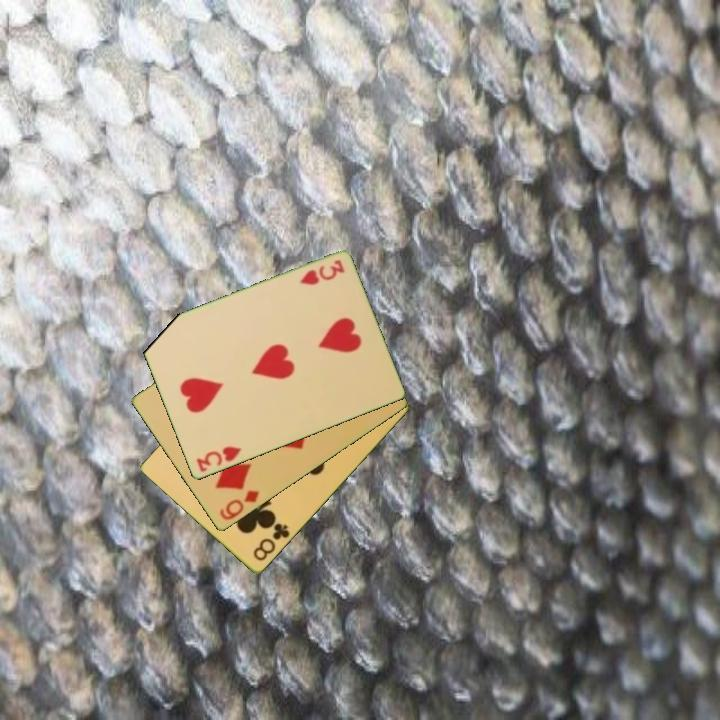3h: (193, 443, 244, 475), (296, 257, 348, 288)
6d: (216, 487, 262, 524)
8c: (249, 520, 293, 564)
